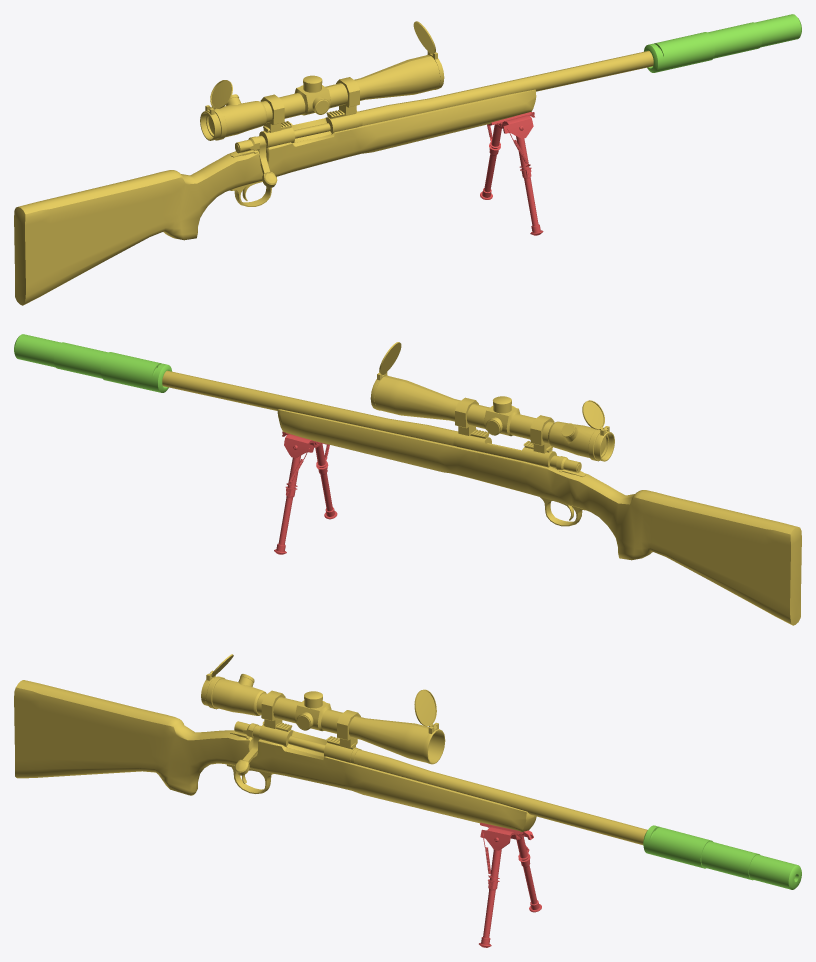
The model's file is remington700.obj.
The picture shows the model from 3 angles, top to bottom: view 1: azimuth 30°, elevation 25°; view 2: azimuth 150°, elevation 25°; view 3: azimuth 330°, elevation 25°; orthographic projection.
Parts seen in each view (by area): view 1: remingtonlp2, Object002, Object001; view 2: remingtonlp2, Object002, Object001; view 3: remingtonlp2, Object002, Object001.
Part boxes in pixels (box(x1,y1,x2,y2)): remingtonlp2: box(14, 21, 653, 305); Object002: box(644, 14, 801, 72); Object001: box(480, 112, 543, 235); remingtonlp2: box(162, 342, 801, 625); Object002: box(14, 334, 171, 392); Object001: box(274, 431, 337, 554); remingtonlp2: box(14, 654, 647, 844); Object002: box(643, 825, 801, 889); Object001: box(479, 822, 541, 947).
Size of the model in its own units: 275 by 72.91 by 34.75.
